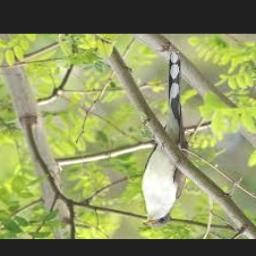Cuckoo: (139, 51, 188, 226)
